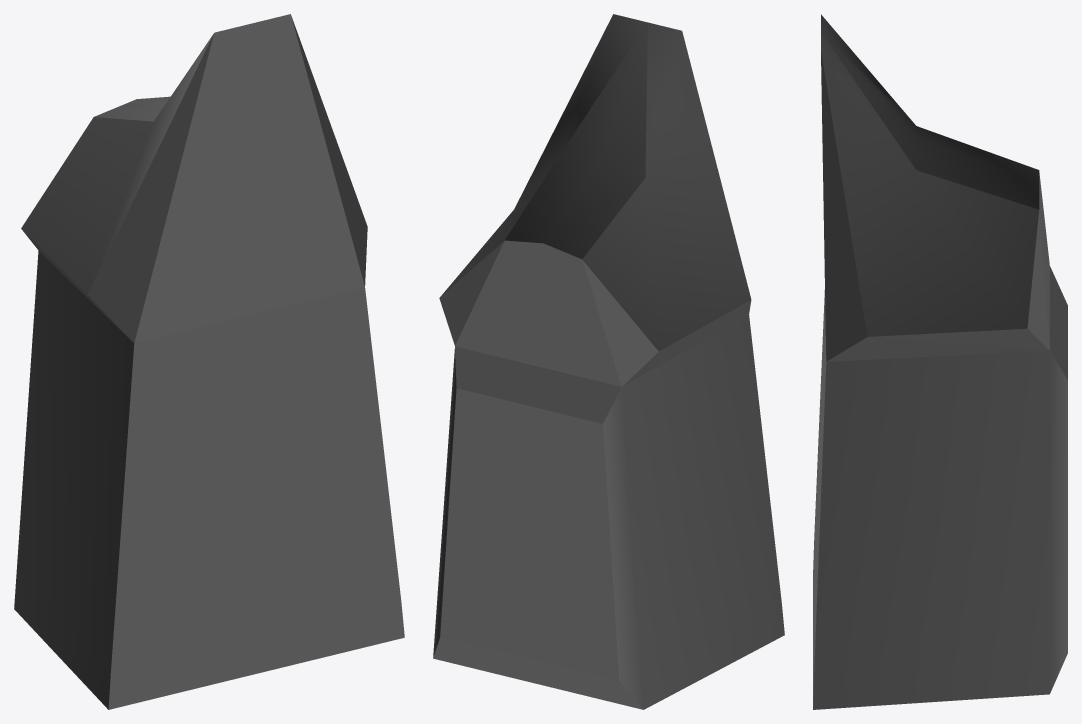
The model's file is ship_vt_05.glb.
The picture shows the model from 3 angles, left to right: view 1: azimuth 30°, elevation 25°; view 2: azimuth 150°, elevation 25°; view 3: azimuth 270°, elevation 25°; orthographic projection. The views are drawn at different scales.
Visible parts, largest first — view 1: group_13; view 2: group_13; view 3: group_13.
Part boxes in pixels (<box>): group_13: <box>14,14,404,709</box>; group_13: <box>433,14,784,709</box>; group_13: <box>813,14,1067,709</box>.
Bounding box in the file's own units: 1728 × 3608 × 1366.
Materials: 1 (1 with a texture image).
